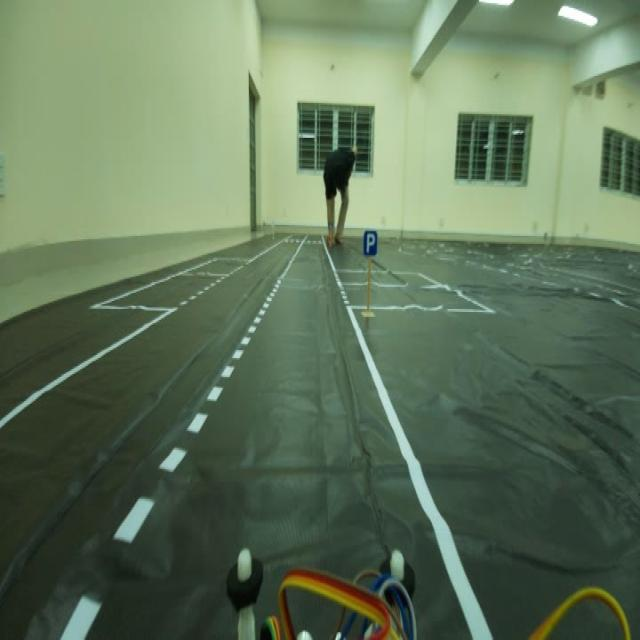parking: (360, 221, 382, 267)
